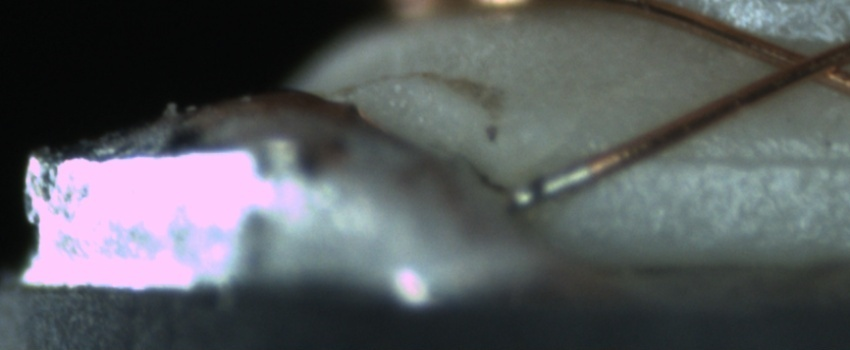CL: (758, 35, 845, 90)
DL: (637, 127, 845, 190)
TS: (510, 161, 590, 208)
